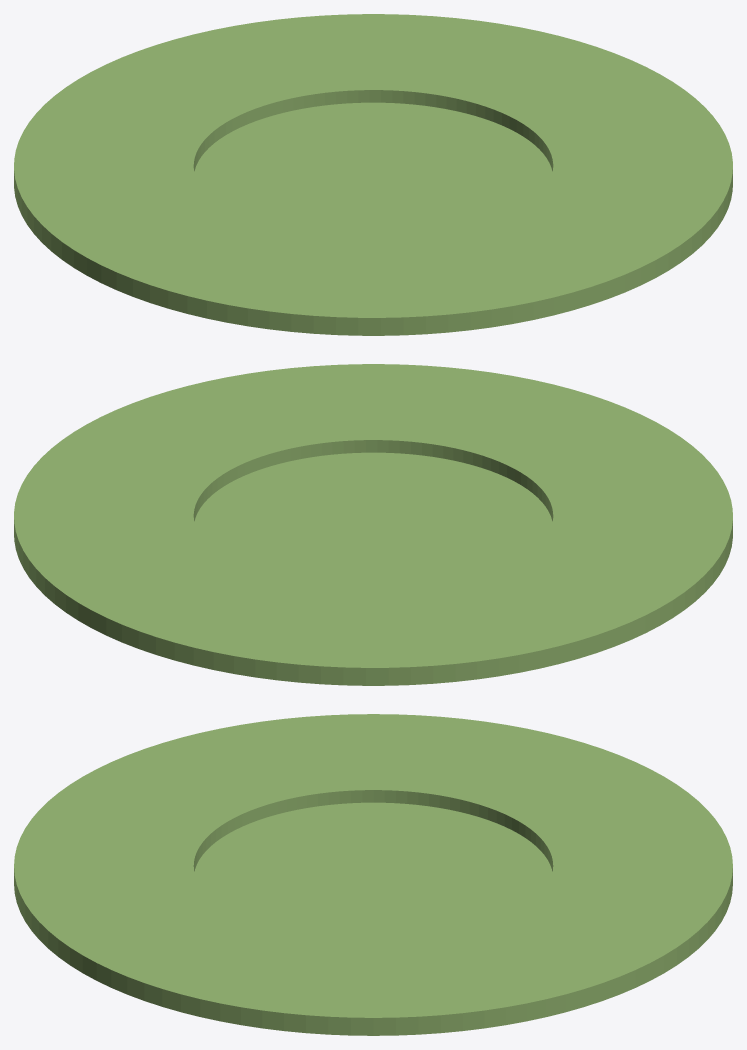
3 renders of one model, top to bottom at view 1: azimuth 30°, elevation 25°; view 2: azimuth 150°, elevation 25°; view 3: azimuth 270°, elevation 25°, orthographic.
Parts seen in each view (by area): view 1: 底座; view 2: 底座; view 3: 底座.
Part boxes in pixels (left/top/right/bottom): 底座: left=14, top=14, right=732, bottom=335; 底座: left=14, top=364, right=732, bottom=685; 底座: left=14, top=714, right=732, bottom=1035.
Bounding box in the file's own units: 13203 × 364 × 13203.
